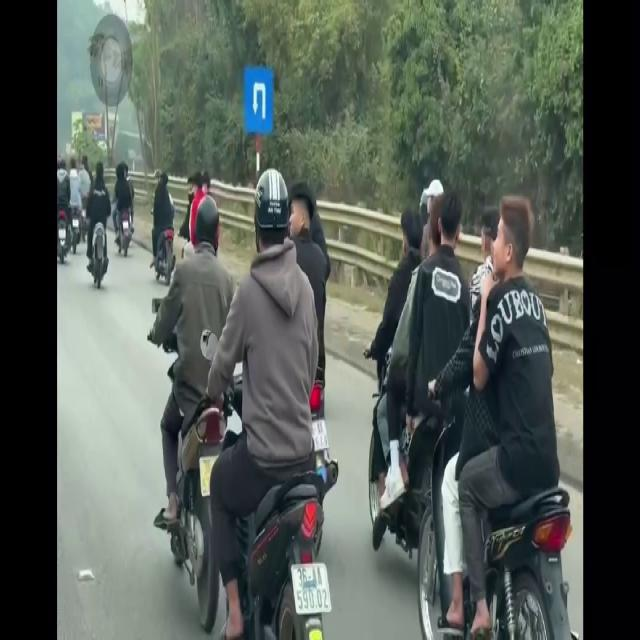helmet: (248, 164, 292, 257), (197, 187, 220, 264)
no_helmet: (498, 194, 532, 294)
